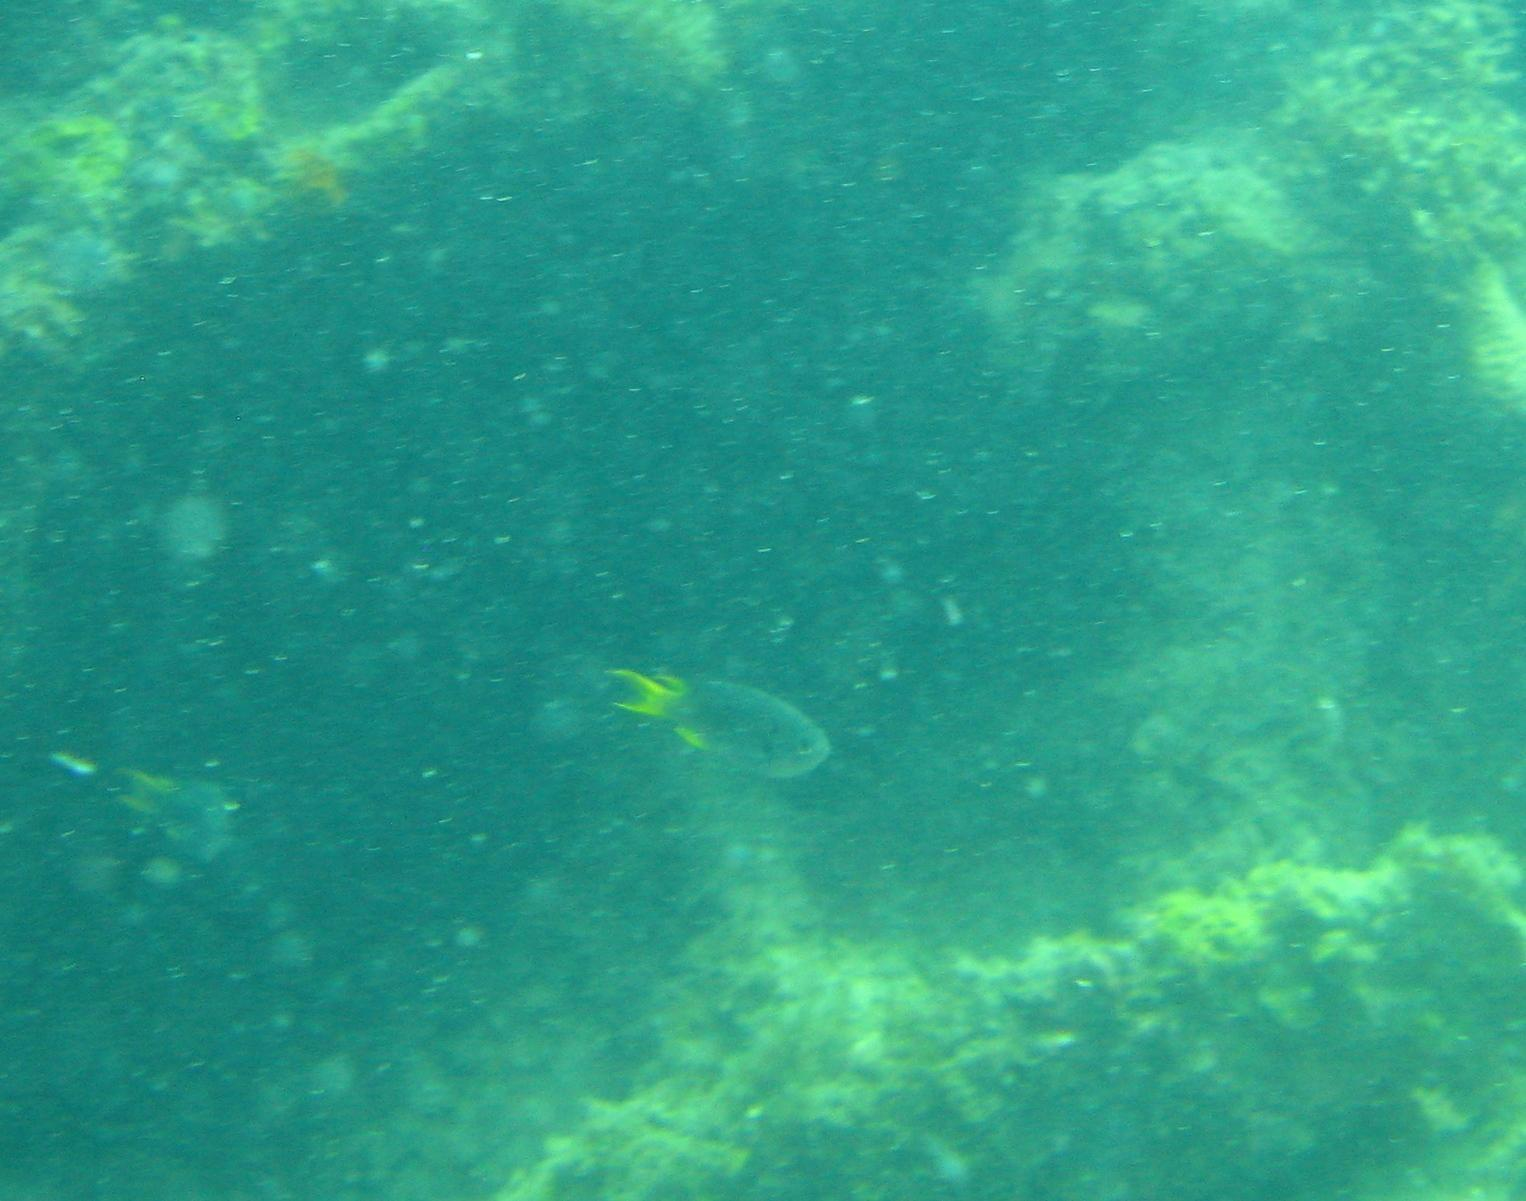Fish: (550, 627, 867, 832)
